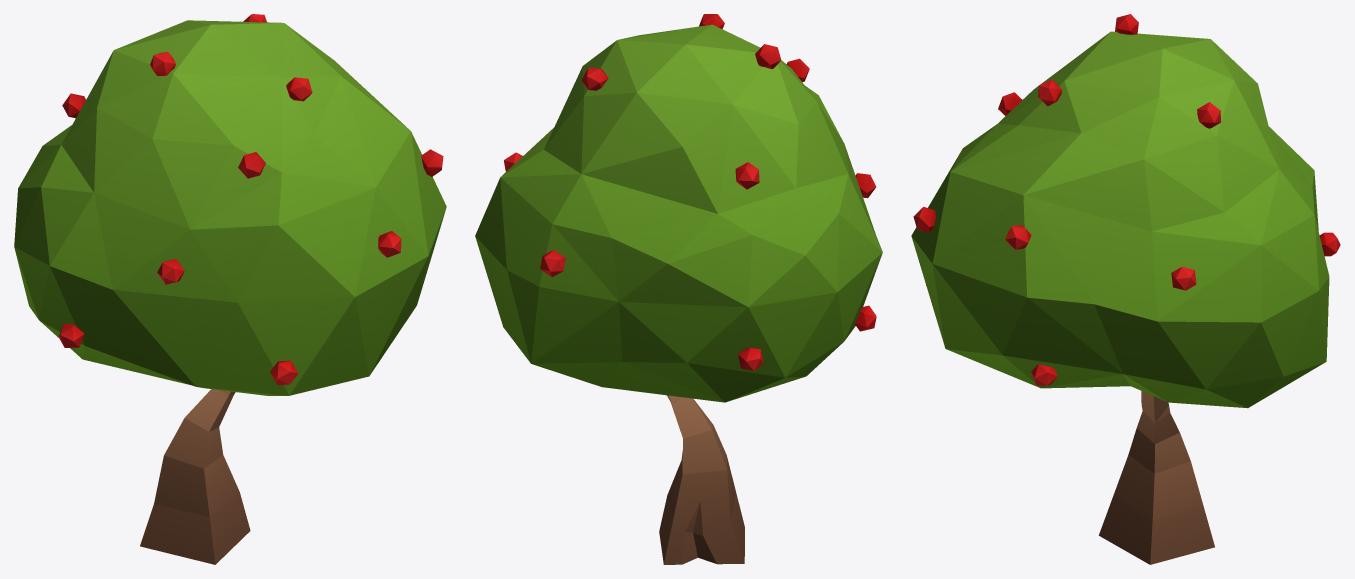
File: Bush_08.fbx
3 views of the same model, side by side, from view 1: azimuth 30°, elevation 25°; view 2: azimuth 150°, elevation 25°; view 3: azimuth 270°, elevation 25° (orthographic).
Parts seen in each view (by area): view 1: Bush_08; view 2: Bush_08; view 3: Bush_08.
Part boxes in pixels (x1,y1,x2,y2): Bush_08: (14,14,446,564); Bush_08: (475,14,882,564); Bush_08: (911,14,1340,564).
Size of the model in its own units: 142 by 193 by 150.
